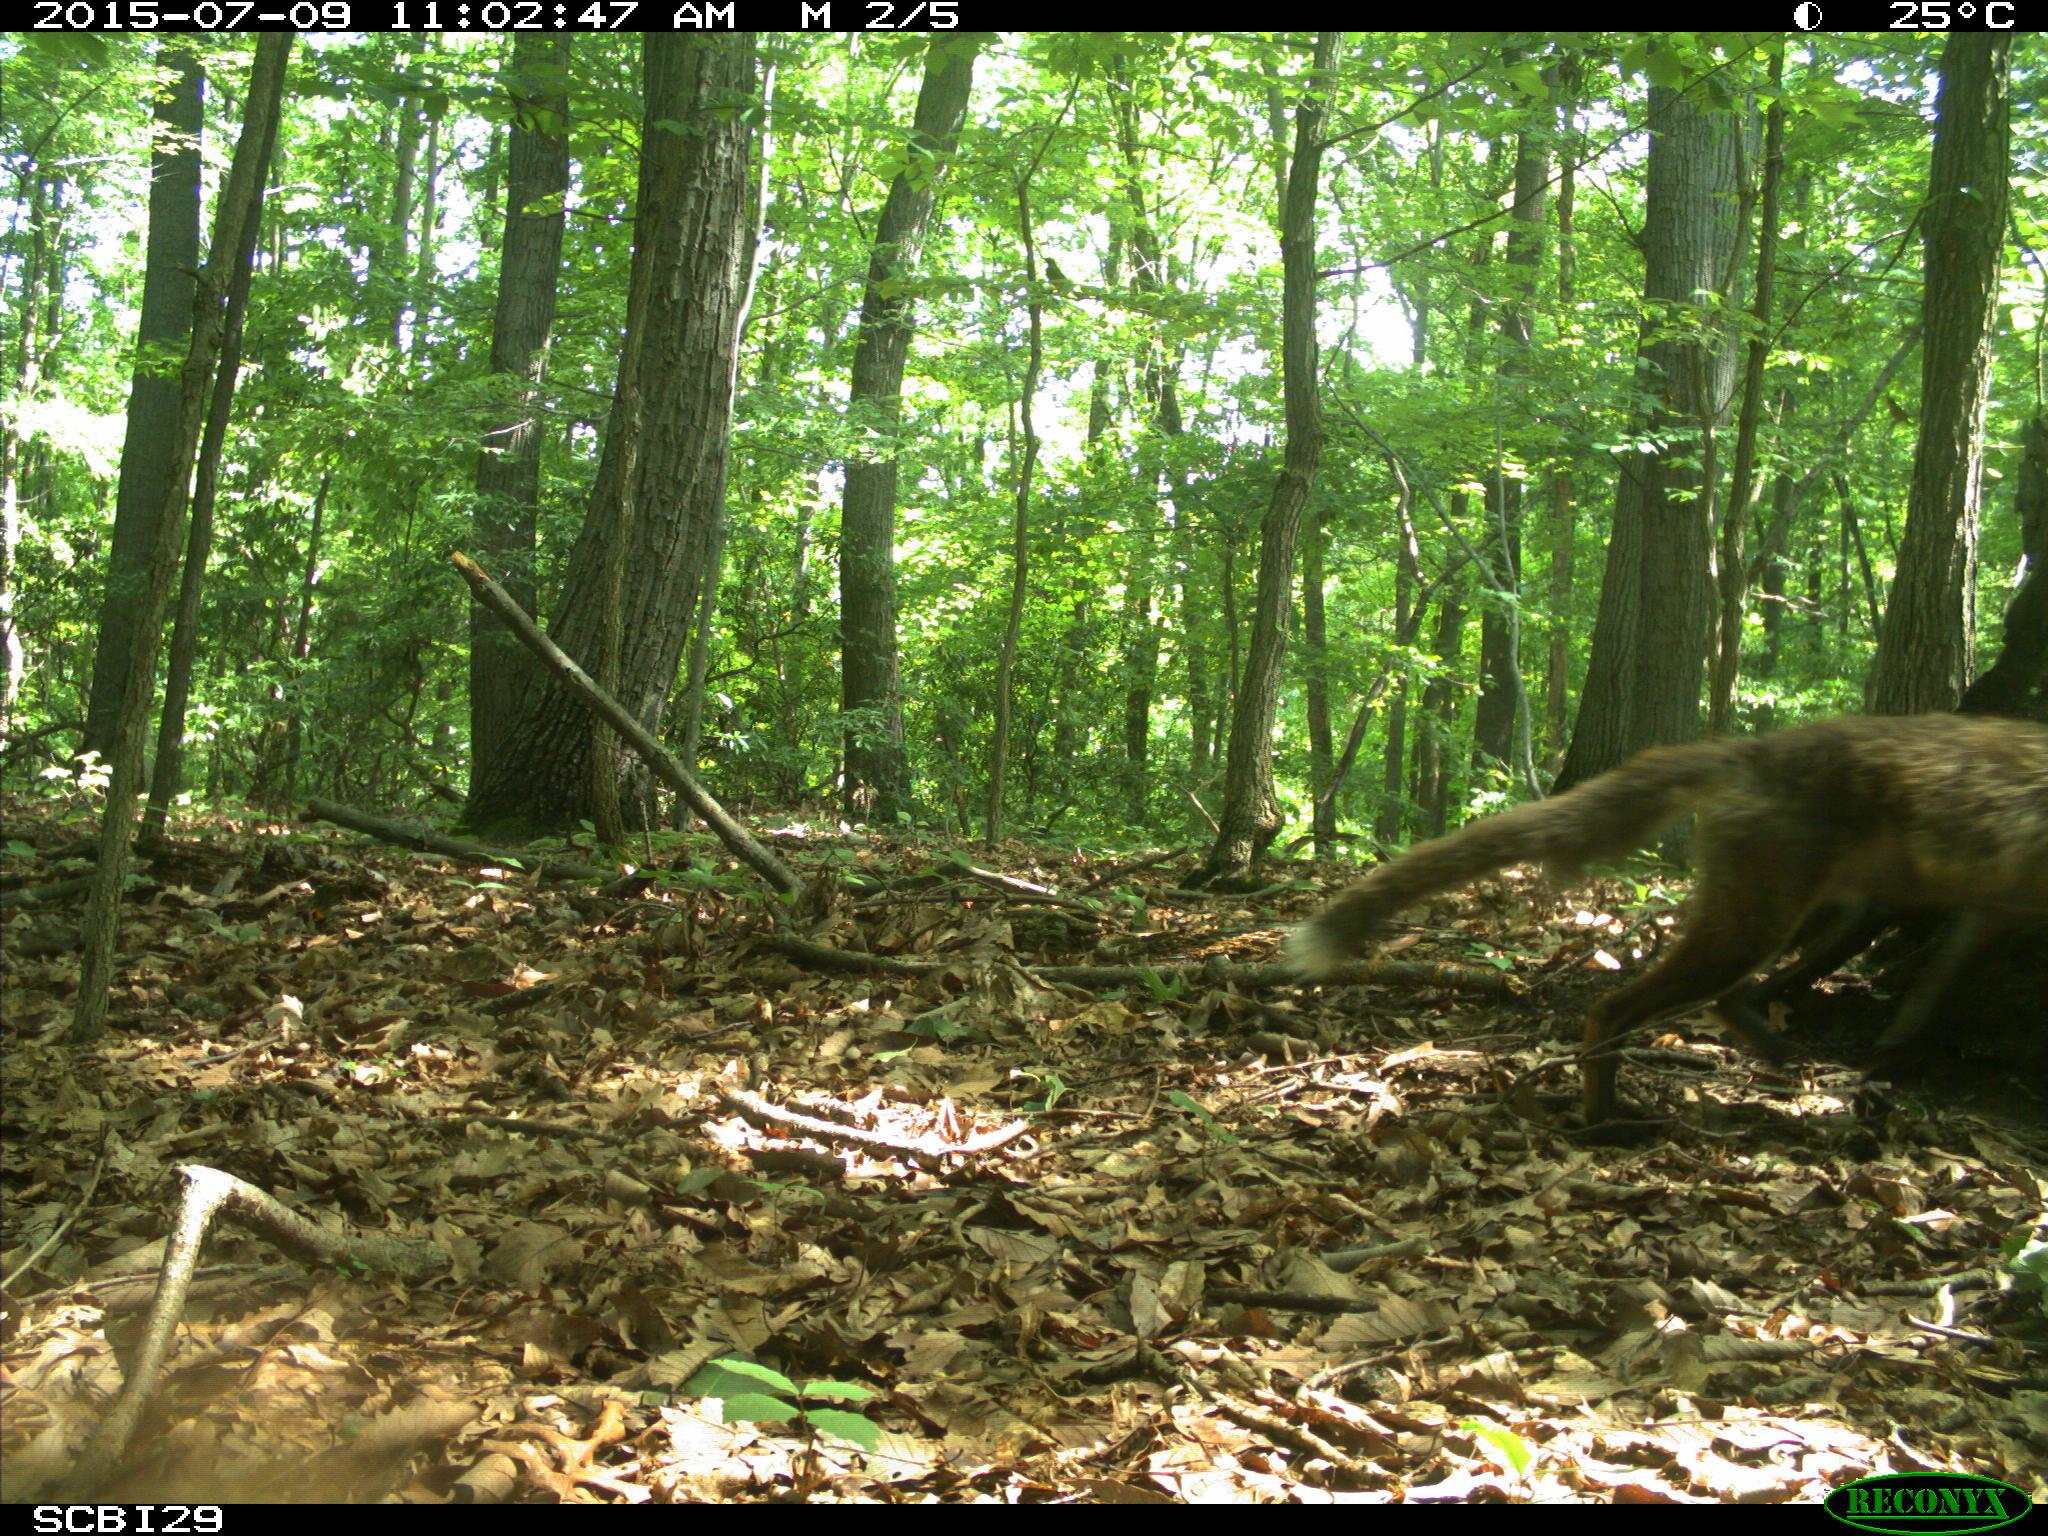Animal: (1288, 712, 2038, 1142)
